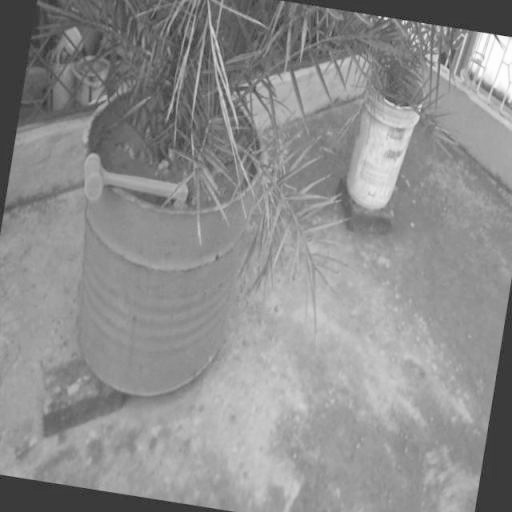mallet: (80, 151, 192, 216)
